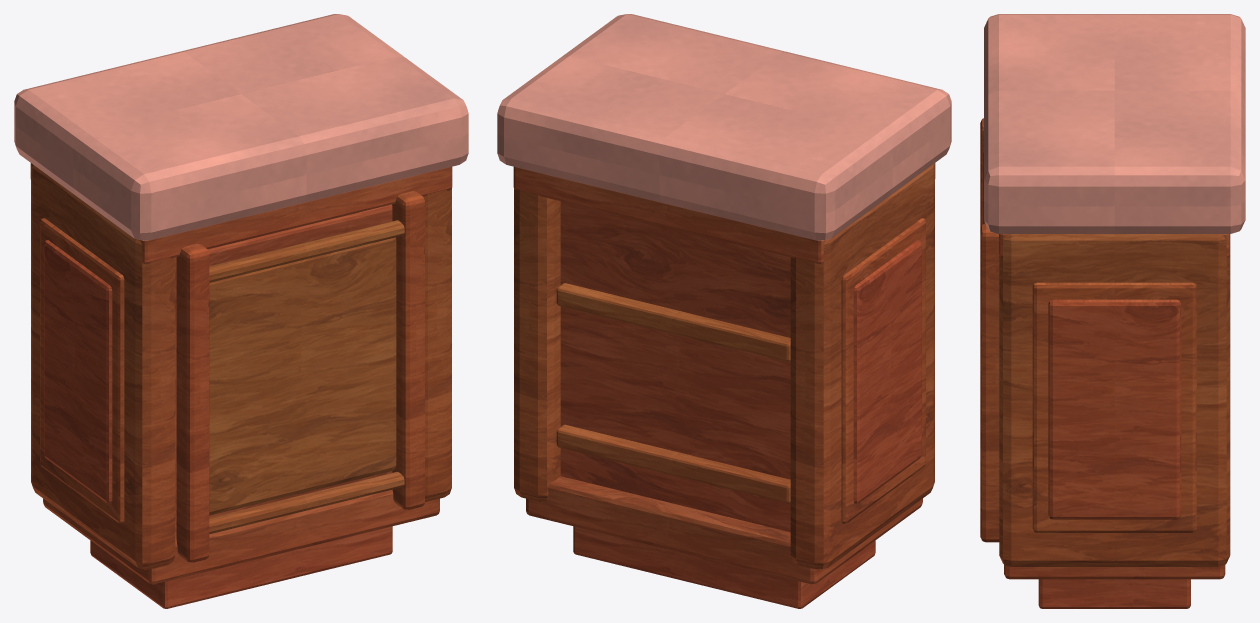
The model's file is WC_CAFE_Counter_End_A.glb.
The picture shows the model from 3 angles, left to right: view 1: azimuth 30°, elevation 25°; view 2: azimuth 150°, elevation 25°; view 3: azimuth 270°, elevation 25°; orthographic projection.
Parts seen in each view (by area): view 1: WC_CAFE_Counter_End_A_DesignedMesh; view 2: WC_CAFE_Counter_End_A_DesignedMesh; view 3: WC_CAFE_Counter_End_A_DesignedMesh.
Boxes of the visible parts, <box> form: WC_CAFE_Counter_End_A_DesignedMesh: <box>14,14,468,608</box>; WC_CAFE_Counter_End_A_DesignedMesh: <box>497,14,951,608</box>; WC_CAFE_Counter_End_A_DesignedMesh: <box>980,14,1245,608</box>.
Bounding box in the file's own units: 0.82 × 1.08 × 0.5575.
4 materials, 4 textured.
